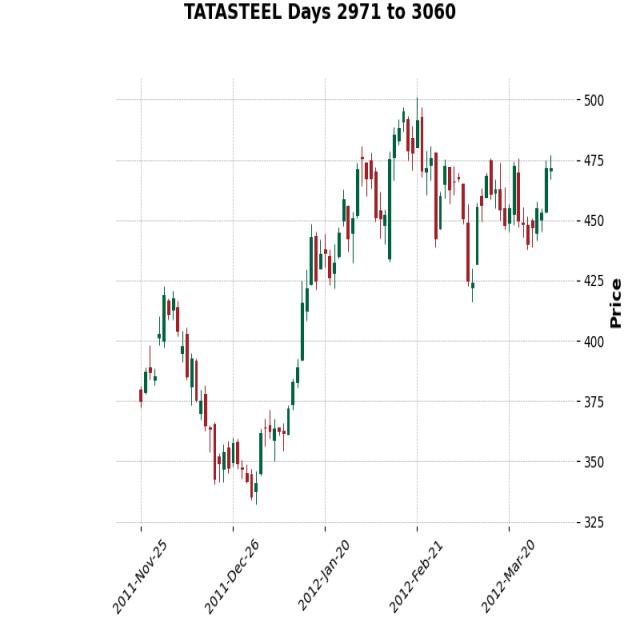Ascending Triangle: (446, 134, 562, 292)
